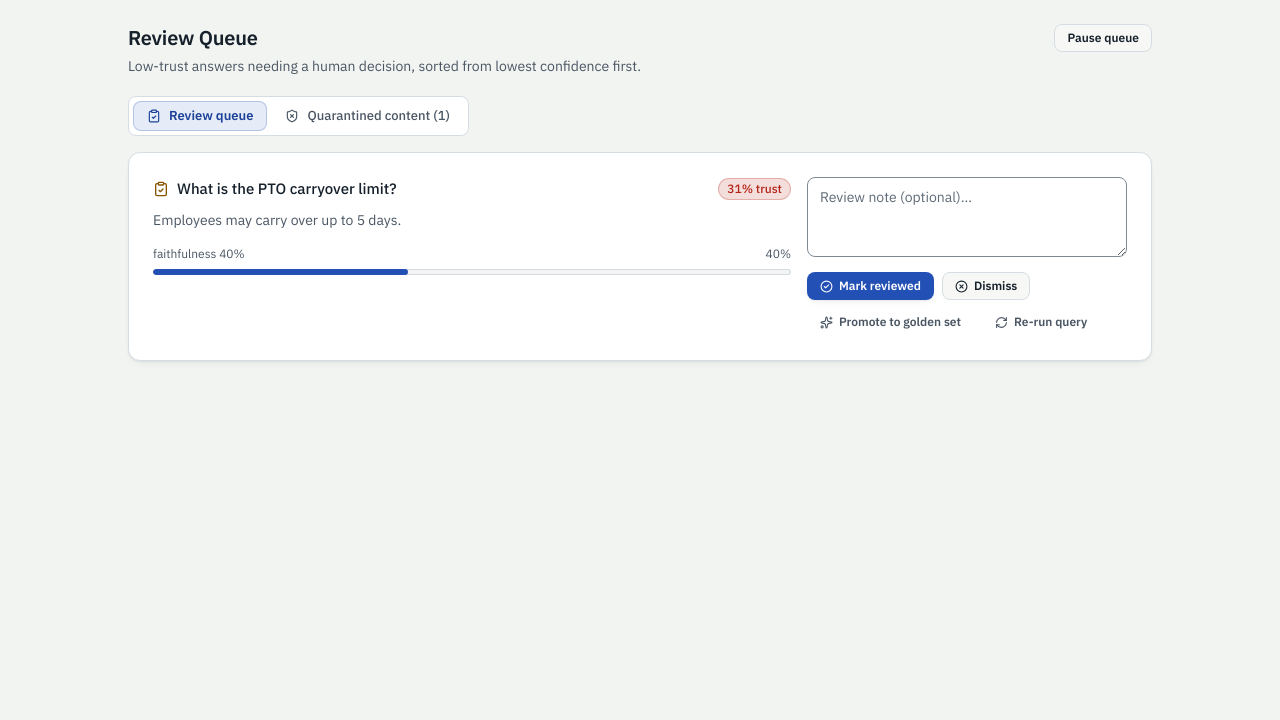
Test: ReviewQueuePage › keeps the promote modal open and shows the server message on a 422
The image size is (1280, 720).
Click the button "Promote to golden set" at (891, 322), box [807, 308, 974, 336]
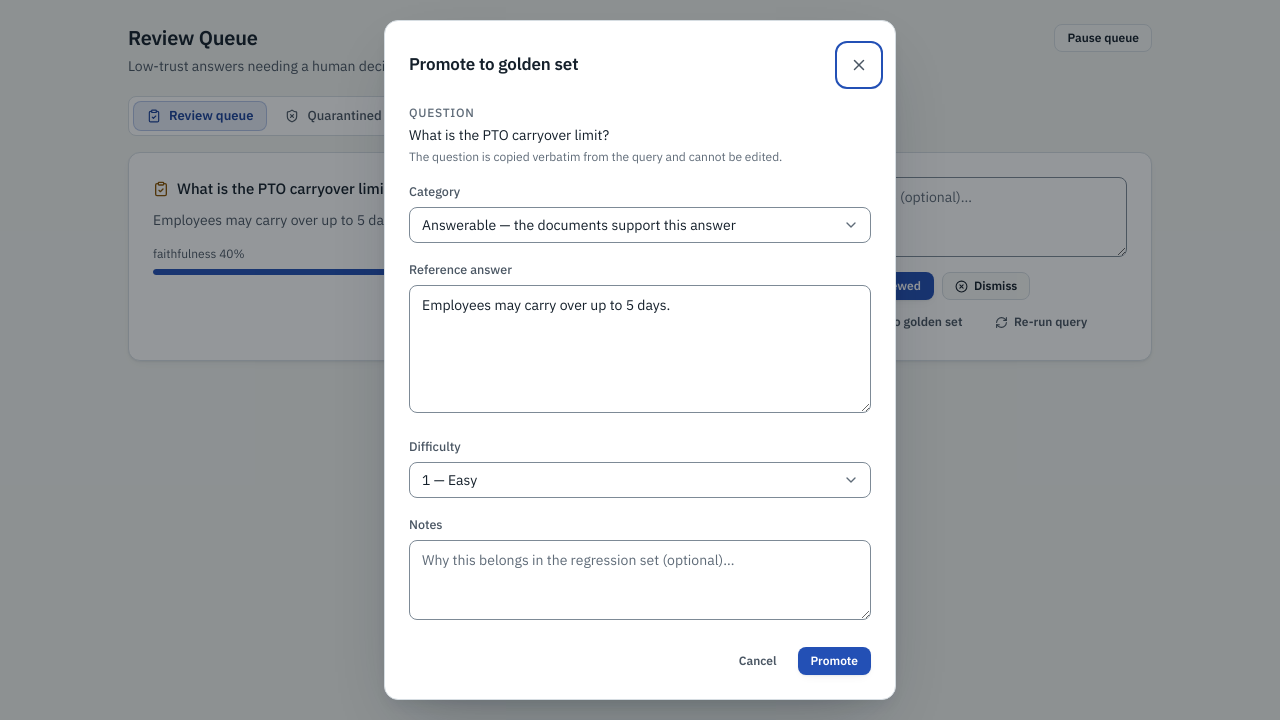
Click the button "Promote" at (834, 661), box [798, 647, 871, 675]
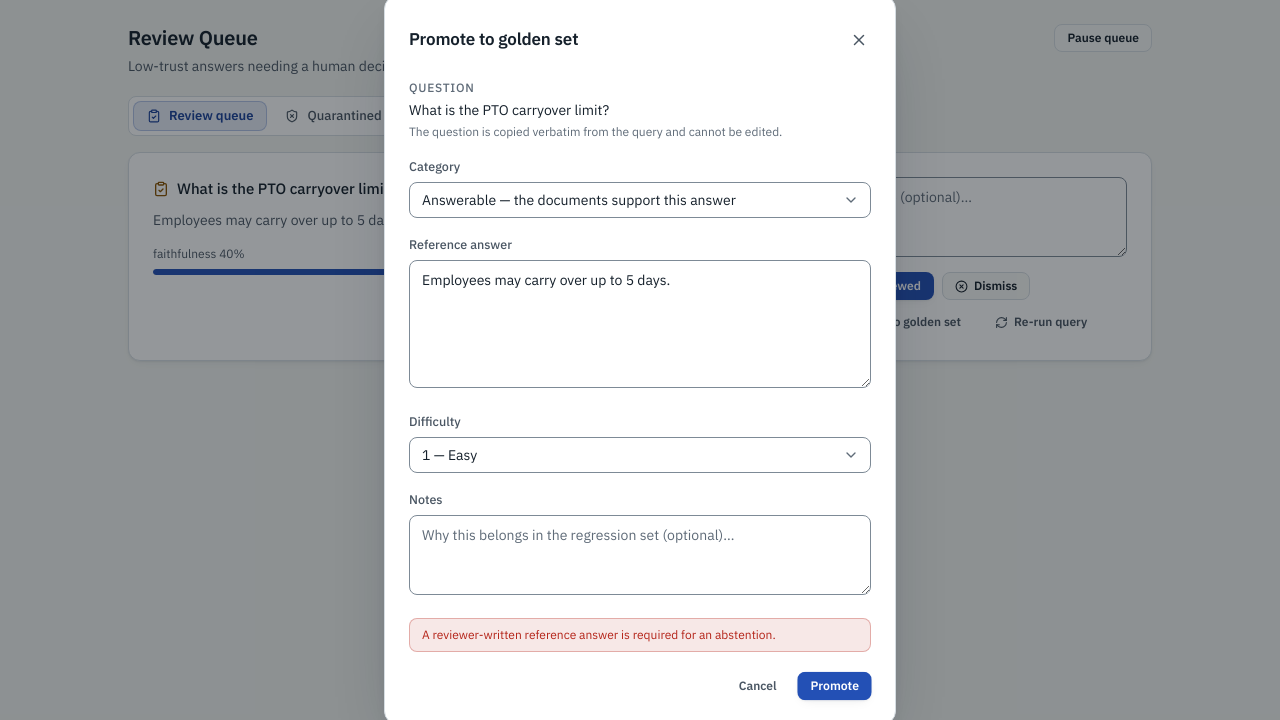
Check: the message reads "A reviewer-written reference answer is required for an abstention.", box [422, 627, 776, 642]
